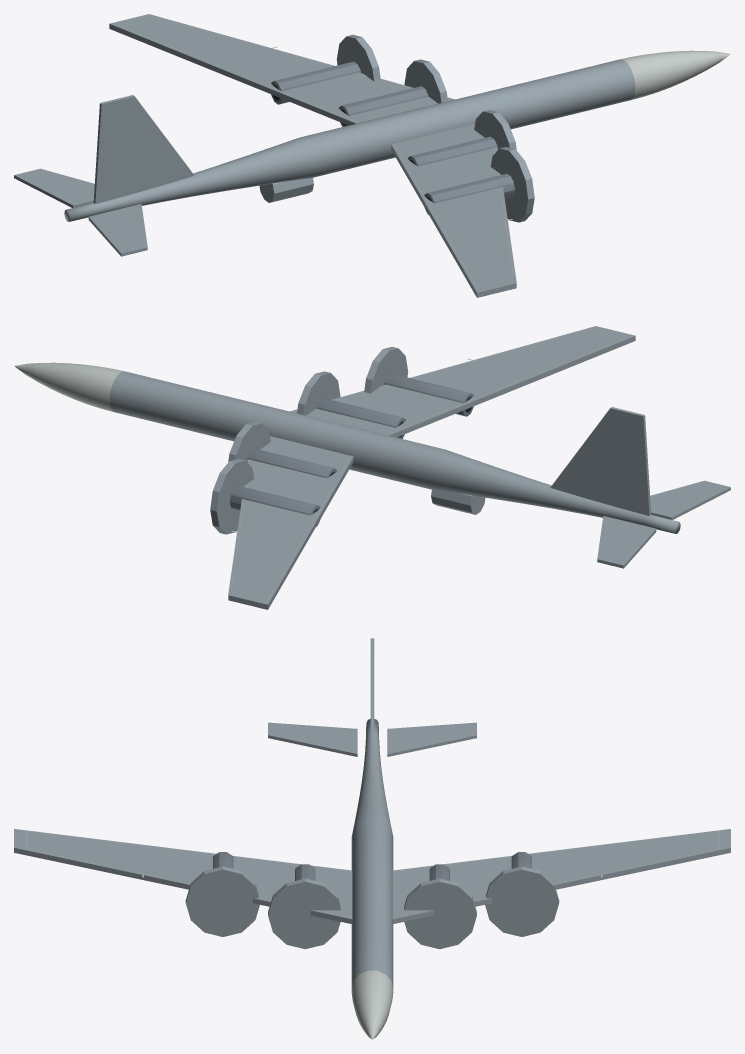
The model's file is rfn_mpa_tu142.glb.
The picture shows the model from 3 angles, top to bottom: view 1: azimuth 30°, elevation 25°; view 2: azimuth 150°, elevation 25°; view 3: azimuth 270°, elevation 25°; orthographic projection. The views are drawn at different scales.
Parts seen in each view (by area): view 1: rfn_mpa_tu142; view 2: rfn_mpa_tu142; view 3: rfn_mpa_tu142.
Boxes of the visible parts, x1,y1,x2,y2 form: rfn_mpa_tu142: (14,14,730,297); rfn_mpa_tu142: (14,326,730,609); rfn_mpa_tu142: (14,638,730,1039).
Bounding box in the file's own units: 10 × 2.04 × 9.6.
